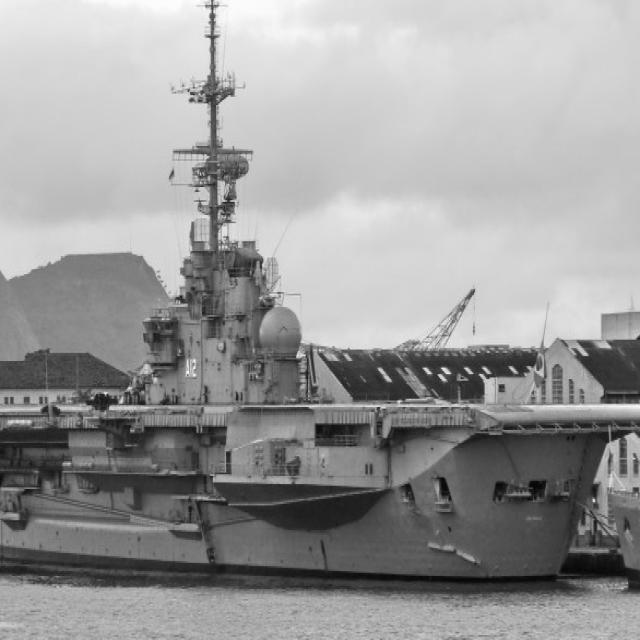Portanaves: (1, 1, 640, 597)
